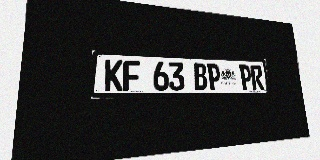3: (168, 62, 184, 91)
6: (153, 61, 169, 91)
B: (193, 63, 208, 90)
F: (123, 60, 140, 91)
K: (104, 59, 123, 91)
P: (207, 63, 221, 90), (239, 65, 253, 90)
R: (250, 65, 264, 90)
